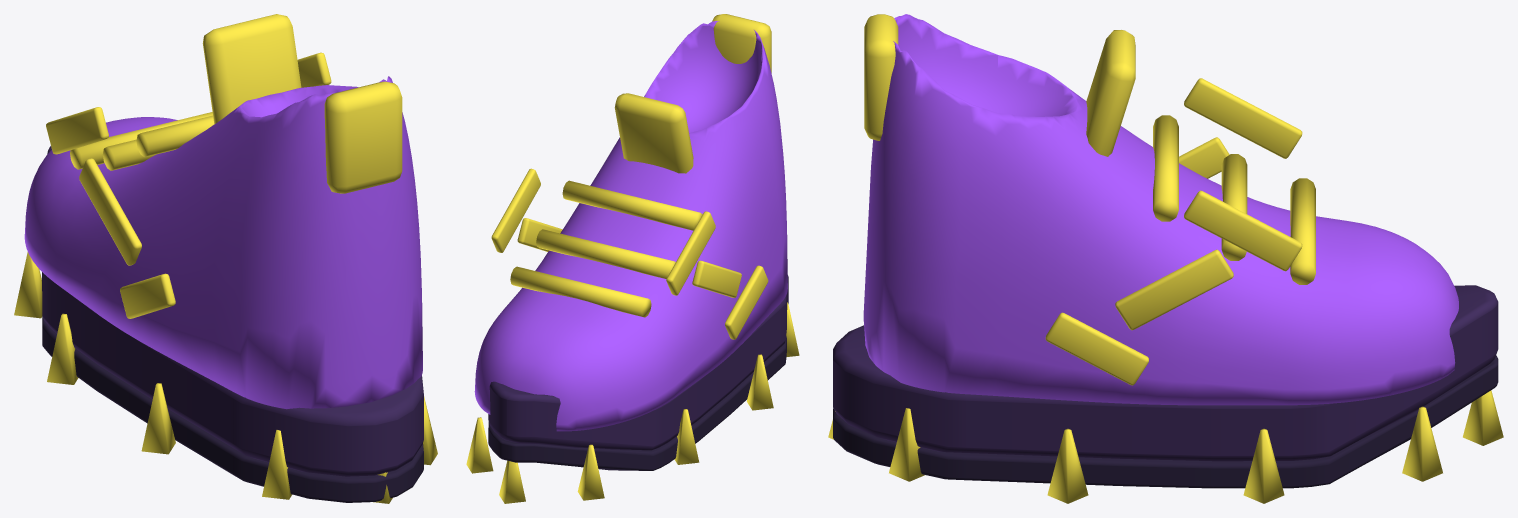
File: shoe_thunder.fbx
3 renders of one model, left to right at view 1: azimuth 30°, elevation 25°; view 2: azimuth 150°, elevation 25°; view 3: azimuth 270°, elevation 25°, orthographic. The views are drawn at different scales.
Visible parts, largest first — view 1: shoe_thunder; view 2: shoe_thunder; view 3: shoe_thunder.
Boxes of the visible parts, left/top/right/bottom form: shoe_thunder: left=14, top=14, right=437, bottom=503; shoe_thunder: left=466, top=14, right=799, bottom=503; shoe_thunder: left=828, top=14, right=1503, bottom=503.
Size of the model in its own units: 1.84 by 2.64 by 3.94.
Materials: 1 (1 with a texture image).
